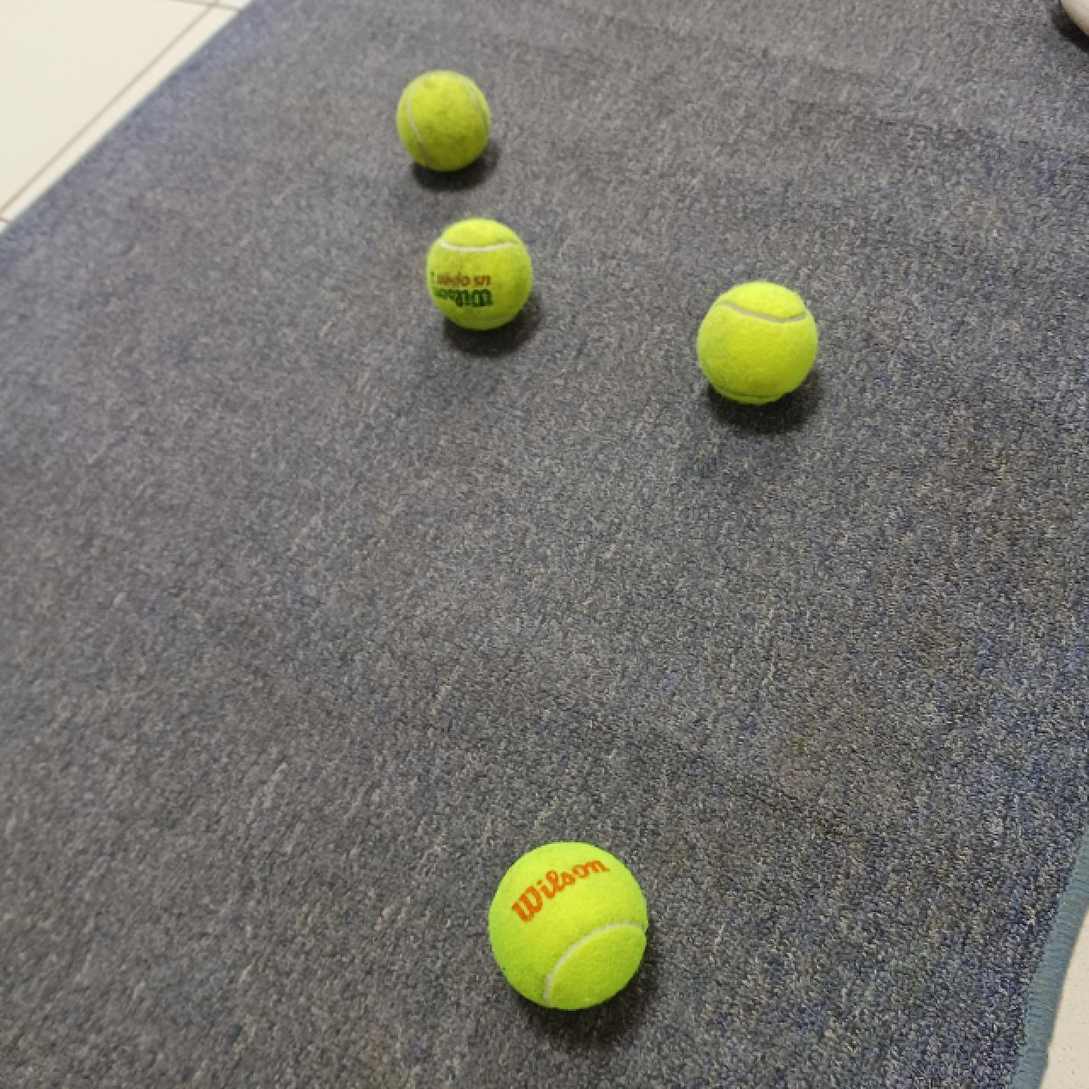tennis-ball: (487, 840, 650, 1012), (694, 280, 820, 408), (424, 217, 533, 331), (395, 68, 494, 172)
